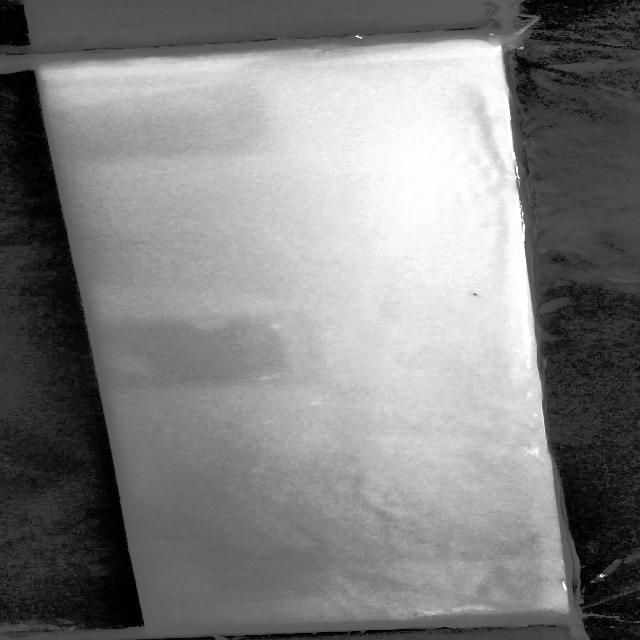shrimp: (456, 288, 491, 304)
